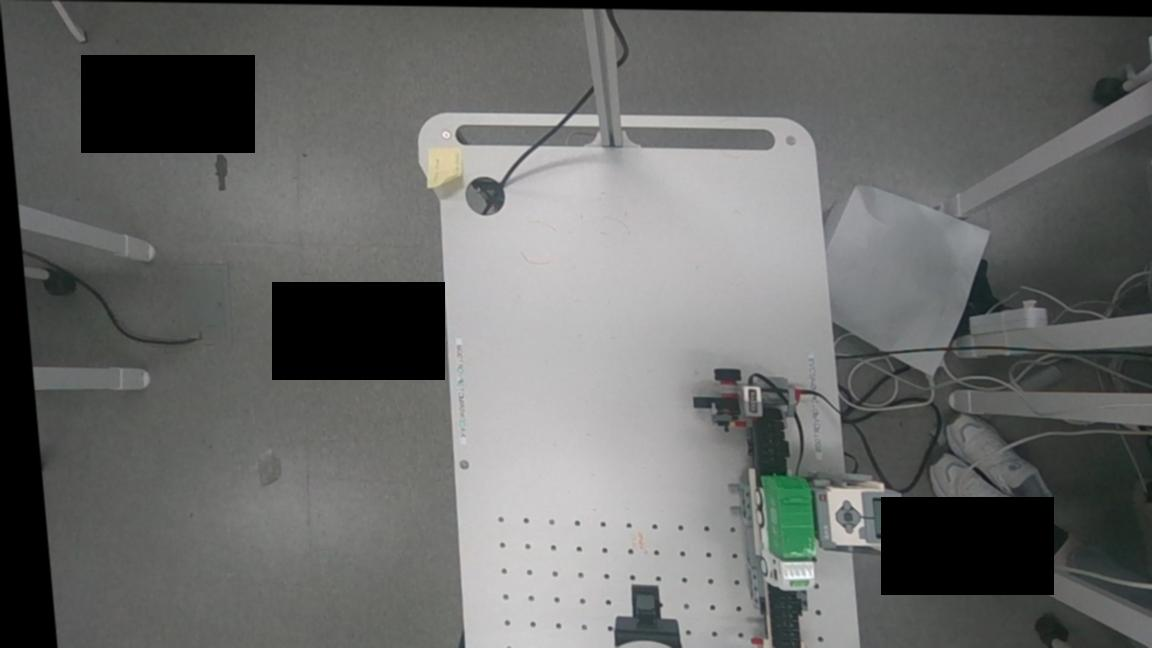truck: (742, 465, 830, 590)
